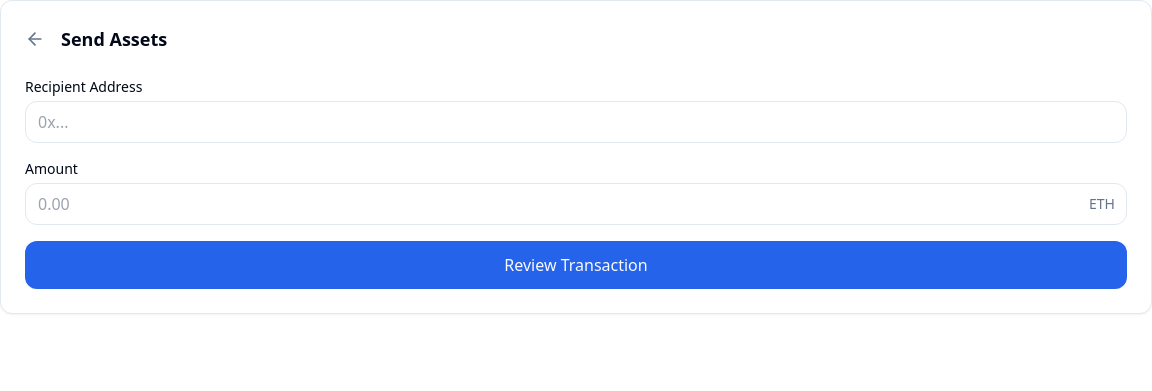
Test: TransferForm › should show error for empty amount
Type "0x742d35Cc6634C0532925a3b844Bc454e4438f44e" into the field with placeholder "0x..." at {"x": 576, "y": 122}, box x1=25 y1=101 x2=1127 y2=143
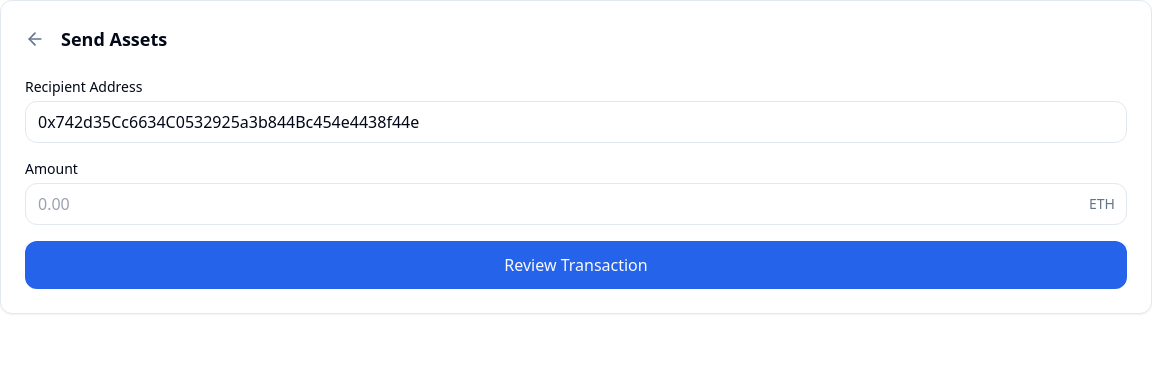
Click the button "Review Transaction" at {"x": 576, "y": 265}, box x1=25 y1=241 x2=1127 y2=289
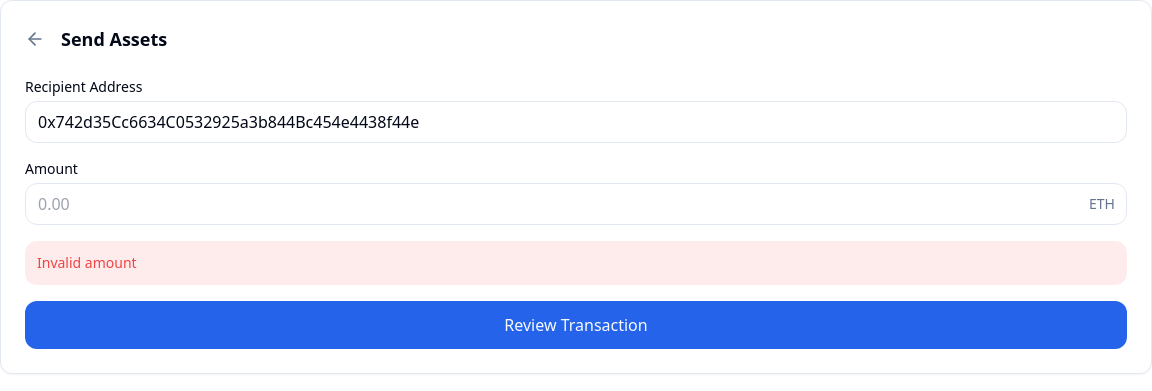
expect the text "Invalid amount" is shown: met, box x1=25 y1=241 x2=1127 y2=285
